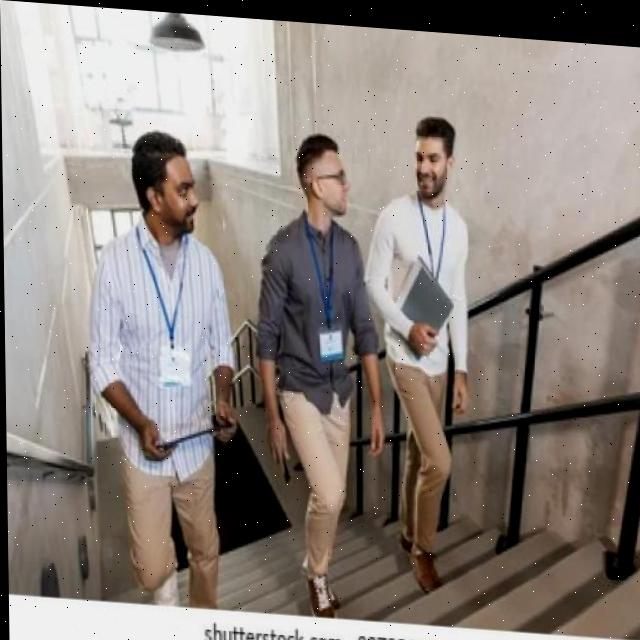id_card: (131, 220, 198, 394), (299, 205, 355, 360), (414, 189, 451, 277)
